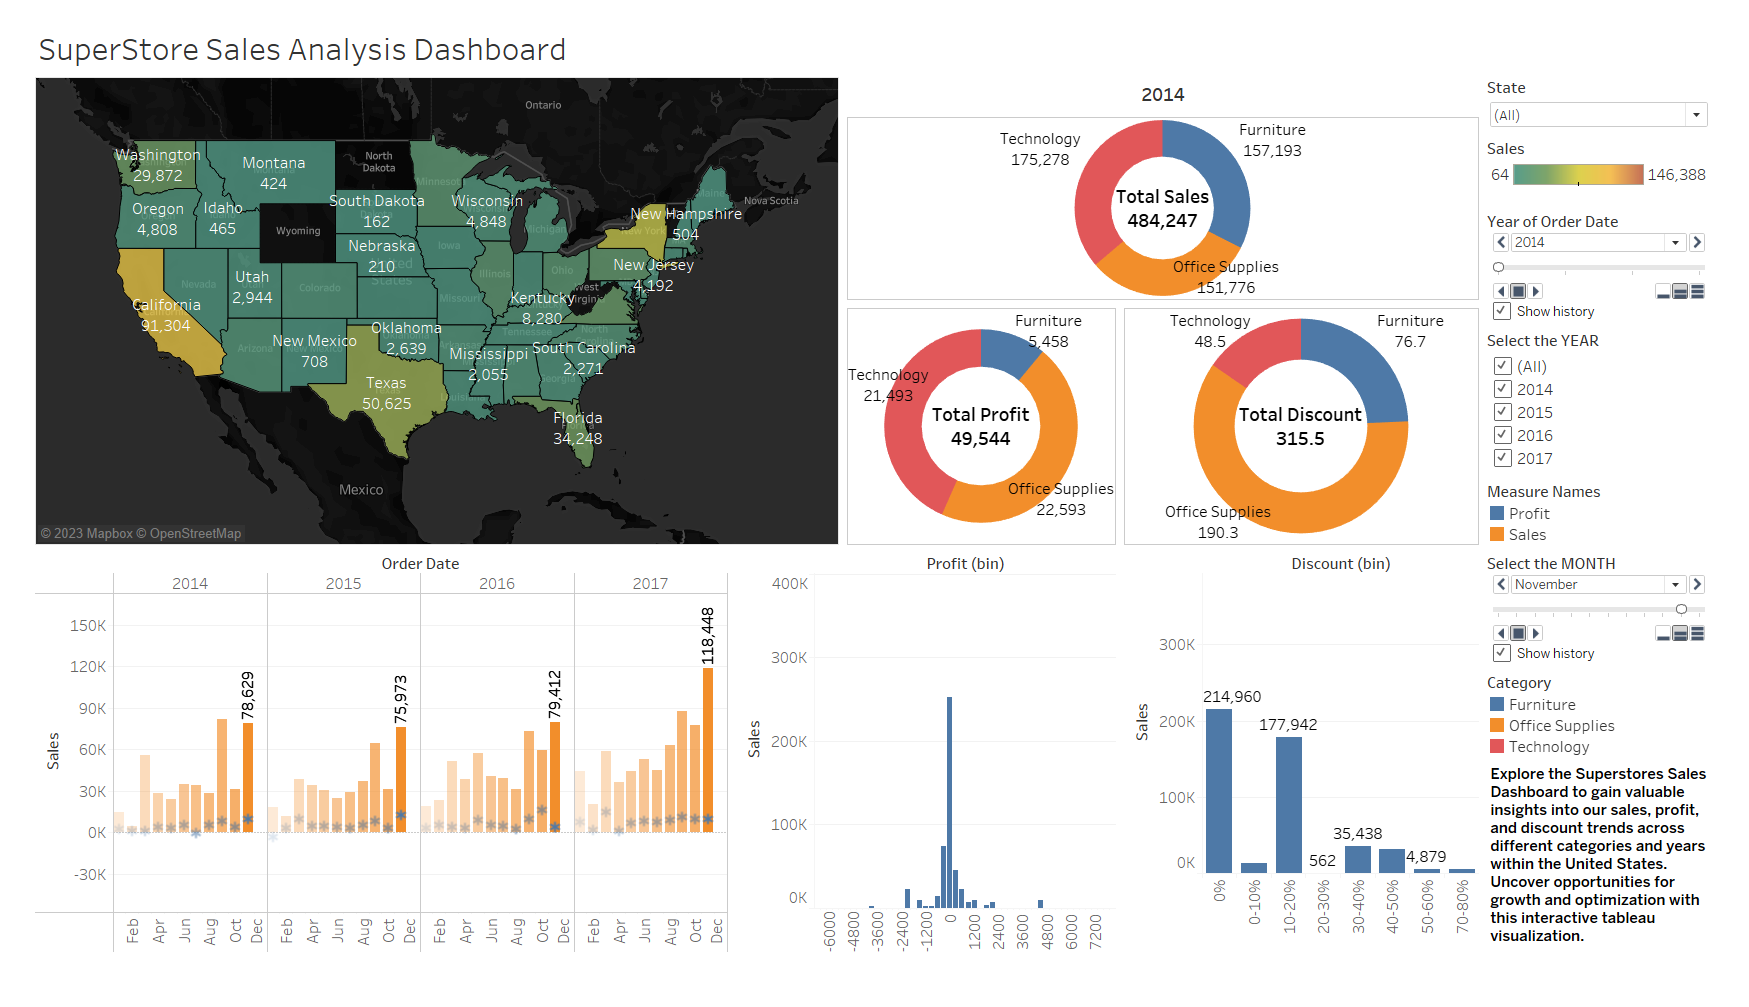

This screenshot's page, from the dashboard's own definition file:
{"tool":"tableau","page":{"name":"SuperStore Sales Analysis Dashboard","canvas":[1700,950],"ordinal":0},"visuals":[{"type":"title","box":[8,8,1684,50]},{"type":"worksheet","title":"Overall Sales","mark":"Automatic","box":[8,58,811.9,476]},{"type":"worksheet","title":"Sales info","mark":"Pie","rows":["Calculation_640355581756870656","Calculation_640355581756870656"],"box":[819.9,58,640.1,231]},{"type":"filter","title":"Overall Sales","param":"[federated.1ewi4uo1d841it16jq1jl1ep99fx].[none:State:nk]","box":[1460,58,232,61]},{"type":"legend","title":"Overall Sales","param":"[federated.1ewi4uo1d841it16jq1jl1ep99fx].[sum:Sales:qk]","box":[1460,119,232,73]},{"type":"currpage","title":"Overall Sales","box":[1460,192,232,119]},{"type":"worksheet","title":"Profit info","mark":"Pie","rows":["Calculation_640355581756870656","Calculation_640355581756870656"],"box":[819.9,289,277,245]},{"type":"worksheet","title":"Discount info","mark":"Pie","rows":["Calculation_640355581756870656","Calculation_640355581756870656"],"box":[1096.9,289,363.1,245]},{"type":"filter","title":"Profit v/s Loss","param":"[federated.1ewi4uo1d841it16jq1jl1ep99fx].[yr:Order Date:ok]","box":[1460,311,232,151]},{"type":"legend","title":"Profit v/s Loss","param":"[federated.1ewi4uo1d841it16jq1jl1ep99fx].[:Measure Names]","box":[1460,462,232,72]},{"type":"worksheet","title":"Profit v/s Loss","mark":"Automatic","rows":["Sales","Profit"],"cols":["Order Date","Order Date"],"box":[8,534,700.9,408]},{"type":"worksheet","title":"Profit Distribution","mark":"Automatic","rows":["Sales"],"cols":["Profit (bin)"],"box":[709,534,388,408]},{"type":"worksheet","title":"Discount Distribution","mark":"Automatic","rows":["Sales"],"cols":["Discount (bin)"],"box":[1096.9,534,363.1,408]},{"type":"currpage","title":"Profit v/s Loss","box":[1460,534,232,119]},{"type":"legend","title":"Sales info","param":"[federated.1ewi4uo1d841it16jq1jl1ep99fx].[none:Category:nk]","box":[1460,653,232,93]},{"type":"text","box":[1460,746,232,188]}]}

Visuals, with their boxes in screenshot pixels (x1, y1, x2, y2), scaled from the page's 1700x950 canvas onto the 1749x1007 screenshot:
title: (8, 8, 1741, 61)
"Overall Sales" worksheet: (8, 61, 844, 566)
"Sales info" worksheet (Pie marks): (844, 61, 1502, 306)
"Overall Sales" filter: (1502, 61, 1741, 126)
"Overall Sales" legend: (1502, 126, 1741, 204)
"Overall Sales" currpage: (1502, 204, 1741, 330)
"Profit info" worksheet (Pie marks): (844, 306, 1129, 566)
"Discount info" worksheet (Pie marks): (1129, 306, 1502, 566)
"Profit v/s Loss" filter: (1502, 330, 1741, 490)
"Profit v/s Loss" legend: (1502, 490, 1741, 566)
"Profit v/s Loss" worksheet: (8, 566, 729, 999)
"Profit Distribution" worksheet: (729, 566, 1129, 999)
"Discount Distribution" worksheet: (1129, 566, 1502, 999)
"Profit v/s Loss" currpage: (1502, 566, 1741, 692)
"Sales info" legend: (1502, 692, 1741, 791)
text: (1502, 791, 1741, 990)
